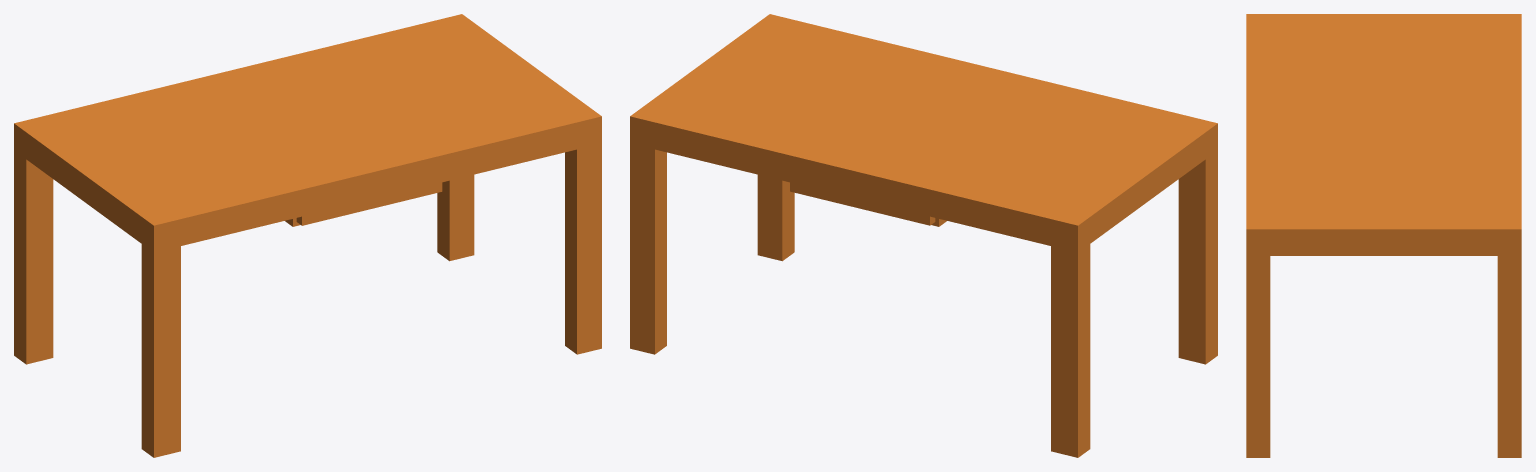
File: table.fbx
The picture shows the model from 3 angles, left to right: view 1: azimuth 30°, elevation 25°; view 2: azimuth 150°, elevation 25°; view 3: azimuth 270°, elevation 25°; orthographic projection.
Visible parts, largest first — view 1: Cube; view 2: Cube; view 3: Cube.
Part boxes in pixels (left/top/right/bottom): Cube: left=14, top=14, right=601, bottom=457; Cube: left=630, top=14, right=1217, bottom=457; Cube: left=1246, top=14, right=1521, bottom=457.
Bounding box in the file's own units: 561 × 278 × 303.
